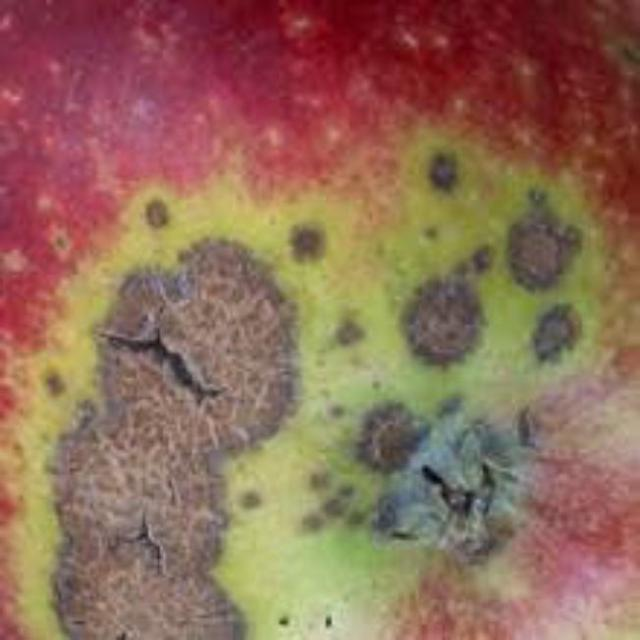Rotten Apple: (10, 15, 628, 632)
